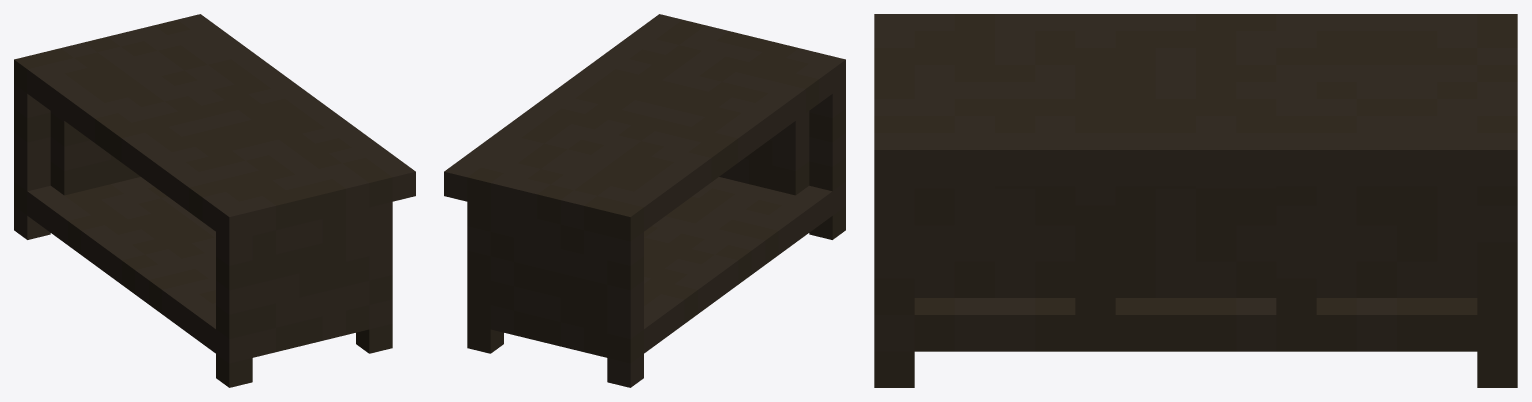
File: tavern-25-bar.obj
3 renders of one model, left to right at view 1: azimuth 30°, elevation 25°; view 2: azimuth 150°, elevation 25°; view 3: azimuth 270°, elevation 25°, orthographic. The views are drawn at different scales.
Parts seen in each view (by area): view 1: bar; view 2: bar; view 3: bar.
Boxes of the visible parts, bbox=[...] form: bar: bbox=[14, 14, 415, 387]; bar: bbox=[444, 14, 845, 387]; bar: bbox=[874, 14, 1517, 387].
Bounding box in the file's own units: 0.8 × 0.7 × 1.6.
Materials: 1 (1 with a texture image).
